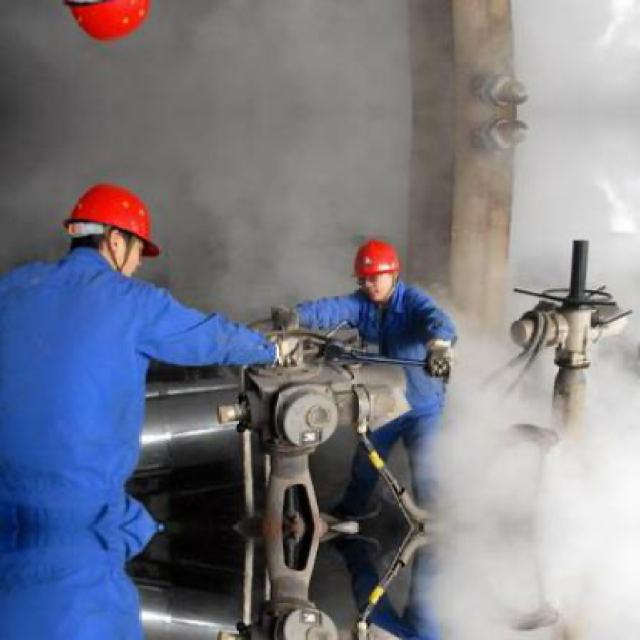con casco: (60, 174, 190, 278), (359, 242, 430, 298)
